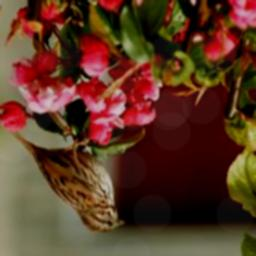Sparrow: (0, 103, 127, 237)
